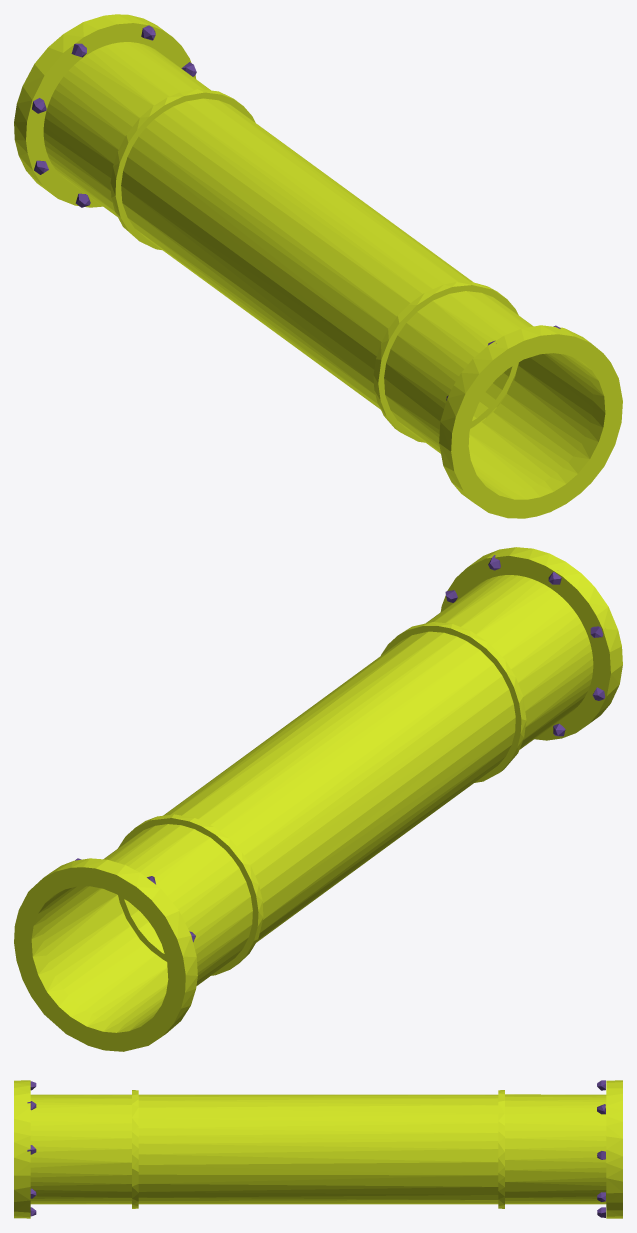
The model's file is CanoLongo_Novo.fbx.
3 renders of one model, top to bottom at view 1: azimuth 30°, elevation 25°; view 2: azimuth 150°, elevation 25°; view 3: azimuth 270°, elevation 25°, orthographic. The views are drawn at different scales.
Visible parts, largest first — view 1: Cano; view 2: Cano; view 3: Cano.
Part boxes in pixels (x1=…): Cano: x1=14, y1=14, x2=622, y2=518; Cano: x1=14, y1=547, x2=622, y2=1051; Cano: x1=14, y1=1080, x2=622, y2=1218.
Bounding box in the file's own units: 227 × 227 × 1000.
